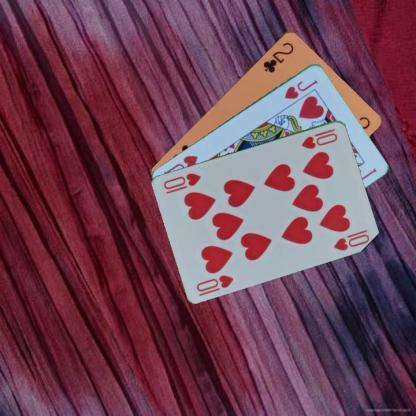10h: (298, 126, 338, 150), (194, 271, 236, 293)
2c: (260, 39, 295, 74)
Jh: (282, 76, 320, 101)
